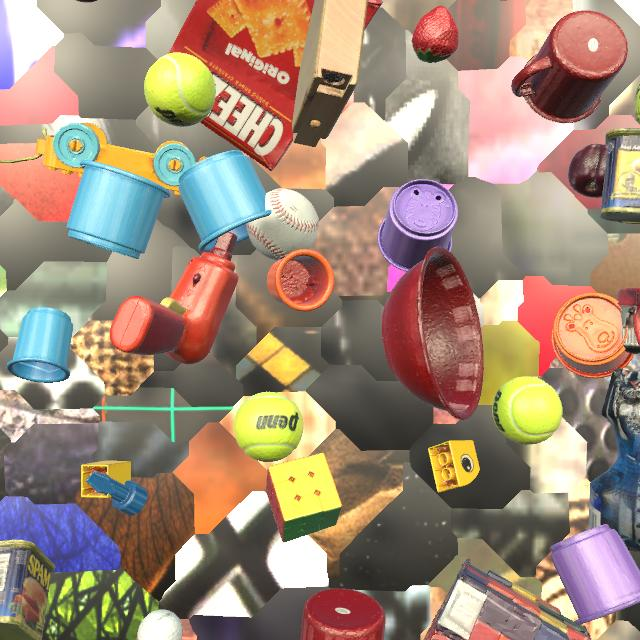ycb_003_cracker_box: (169, 0, 383, 171)
ycb_010_potted_meat_can: (0, 540, 55, 640), (600, 128, 640, 224)
ycb_012_strawberry: (412, 6, 458, 63)
ycb_018_plum: (568, 144, 608, 198)
